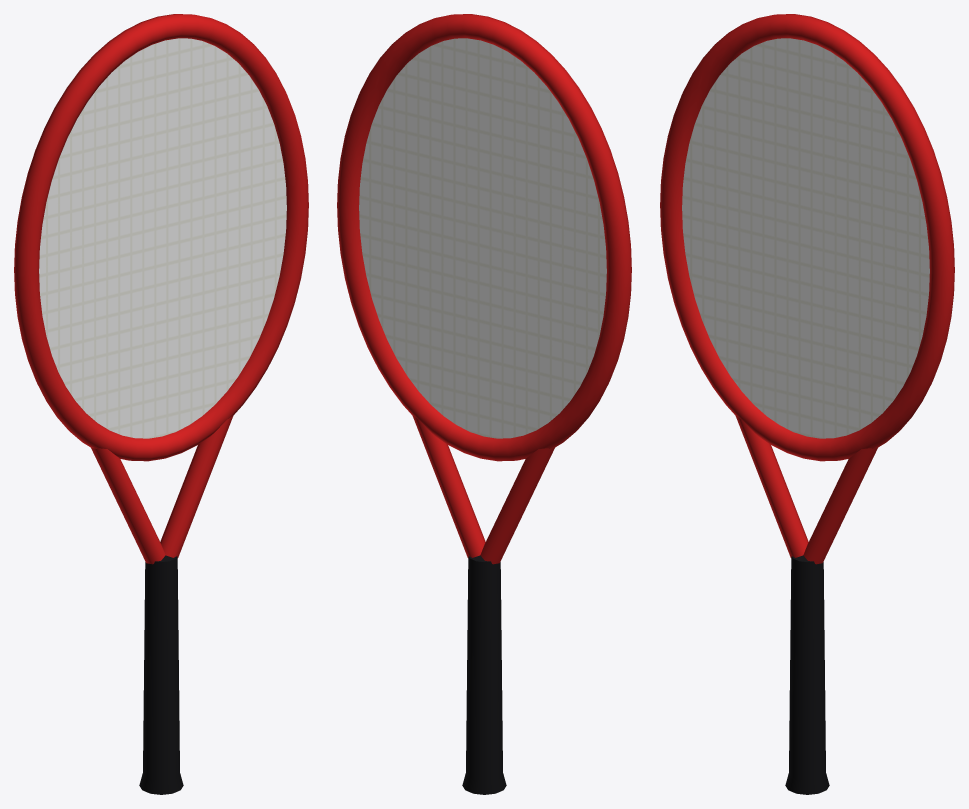
Rendered from raqueta.obj.
3 renders of one model, left to right at view 1: azimuth 30°, elevation 25°; view 2: azimuth 150°, elevation 25°; view 3: azimuth 330°, elevation 25°, orthographic.
Bounding box in the file's own units: 0.281 × 0.7075 × 0.037.
3 materials, 1 textured.
